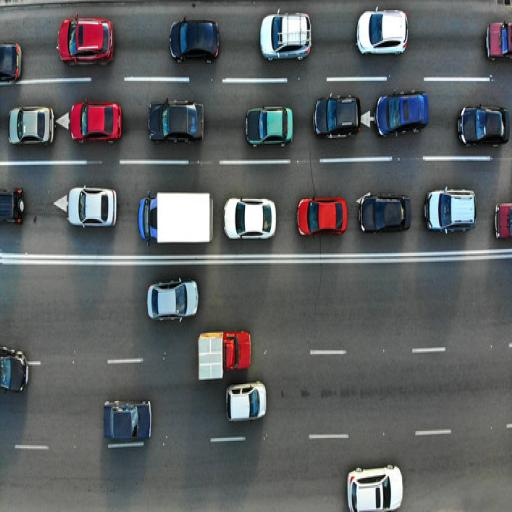Car: (146, 90, 205, 150), (55, 12, 116, 66), (219, 192, 278, 247), (258, 10, 313, 68), (354, 4, 410, 57), (374, 87, 430, 140), (168, 11, 220, 67), (244, 98, 294, 154), (347, 463, 404, 511), (66, 98, 124, 145), (454, 101, 510, 148), (424, 188, 476, 233), (64, 186, 117, 228), (357, 193, 410, 233), (146, 280, 198, 320), (312, 95, 360, 138), (296, 197, 347, 237), (8, 105, 54, 146), (226, 380, 268, 422), (484, 14, 512, 64), (0, 346, 29, 394), (491, 191, 512, 247), (0, 42, 22, 84), (0, 186, 24, 224)
Truck: (133, 188, 216, 251), (104, 400, 152, 442)
Van: (195, 323, 256, 385)
